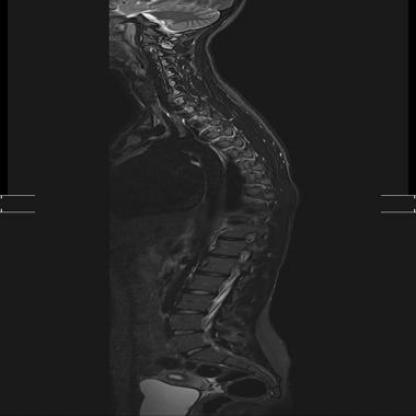Disc Bulgerotation: (226, 218, 255, 229), (164, 72, 177, 83)
